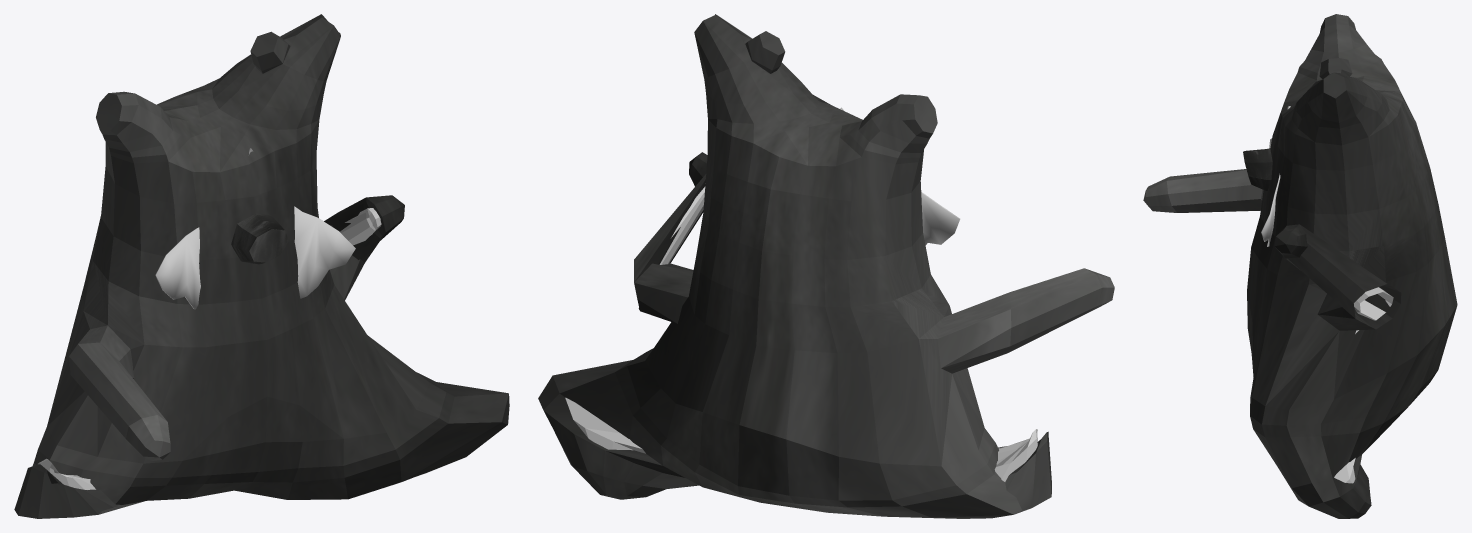
File: frame_0002.obj
The picture shows the model from 3 angles, left to right: view 1: azimuth 30°, elevation 25°; view 2: azimuth 150°, elevation 25°; view 3: azimuth 270°, elevation 25°; orthographic projection. The views are drawn at different scales.
Visible parts, largest first — view 1: korok, leaf, nose; view 2: korok, leaf; view 3: korok, nose, leaf.
Boxes of the visible parts, box(x1,y1,x2,y2) form: korok: box(14, 14, 509, 518); leaf: box(155, 148, 355, 309); nose: box(231, 213, 288, 264); korok: box(538, 14, 1114, 518); leaf: box(840, 107, 960, 245); korok: box(1143, 14, 1457, 518); nose: box(1243, 148, 1272, 190); leaf: box(1261, 106, 1290, 246).
Size of the model in its own units: 2.6 by 2.43 by 1.7.
